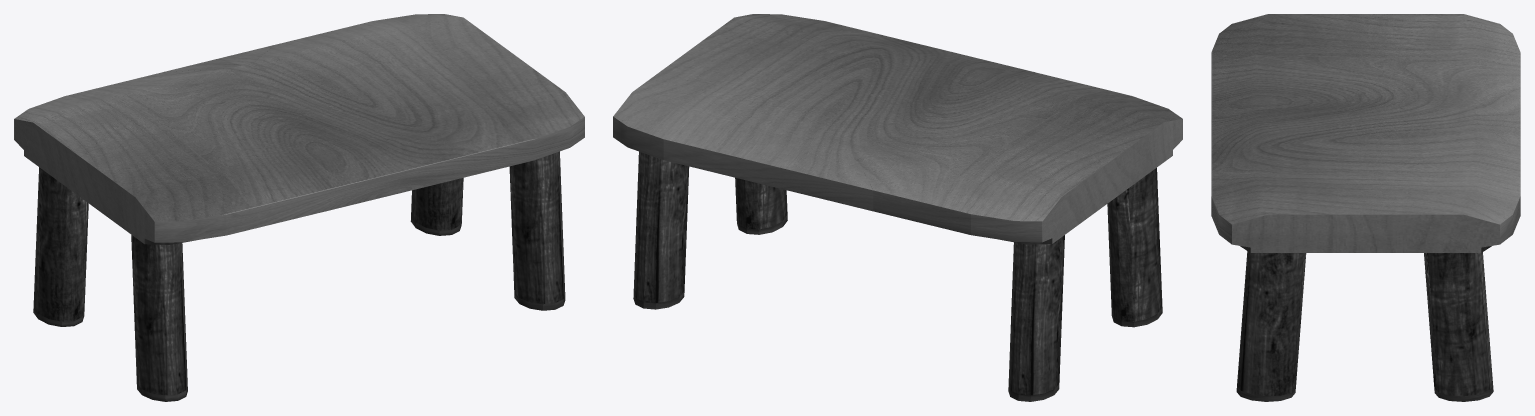
Rendered from Desk.fbx.
The picture shows the model from 3 angles, left to right: view 1: azimuth 30°, elevation 25°; view 2: azimuth 150°, elevation 25°; view 3: azimuth 270°, elevation 25°; orthographic projection. The views are drawn at different scales.
Parts seen in each view (by area): view 1: Desk; view 2: Desk; view 3: Desk.
Boxes of the visible parts, x1,y1,x2,y2 form: Desk: [14, 14, 584, 401]; Desk: [613, 14, 1182, 401]; Desk: [1211, 14, 1520, 401].
Bounding box in the file's own units: 6.24 × 2.77 × 4.07.
